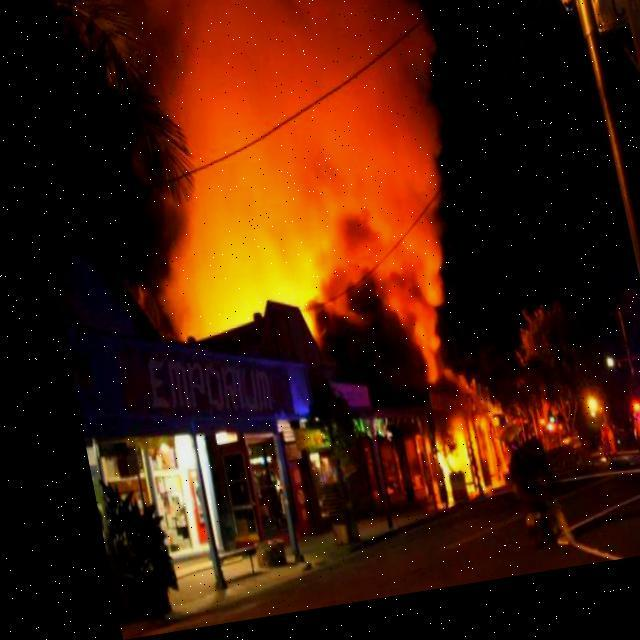Fire: (364, 379, 530, 529)
